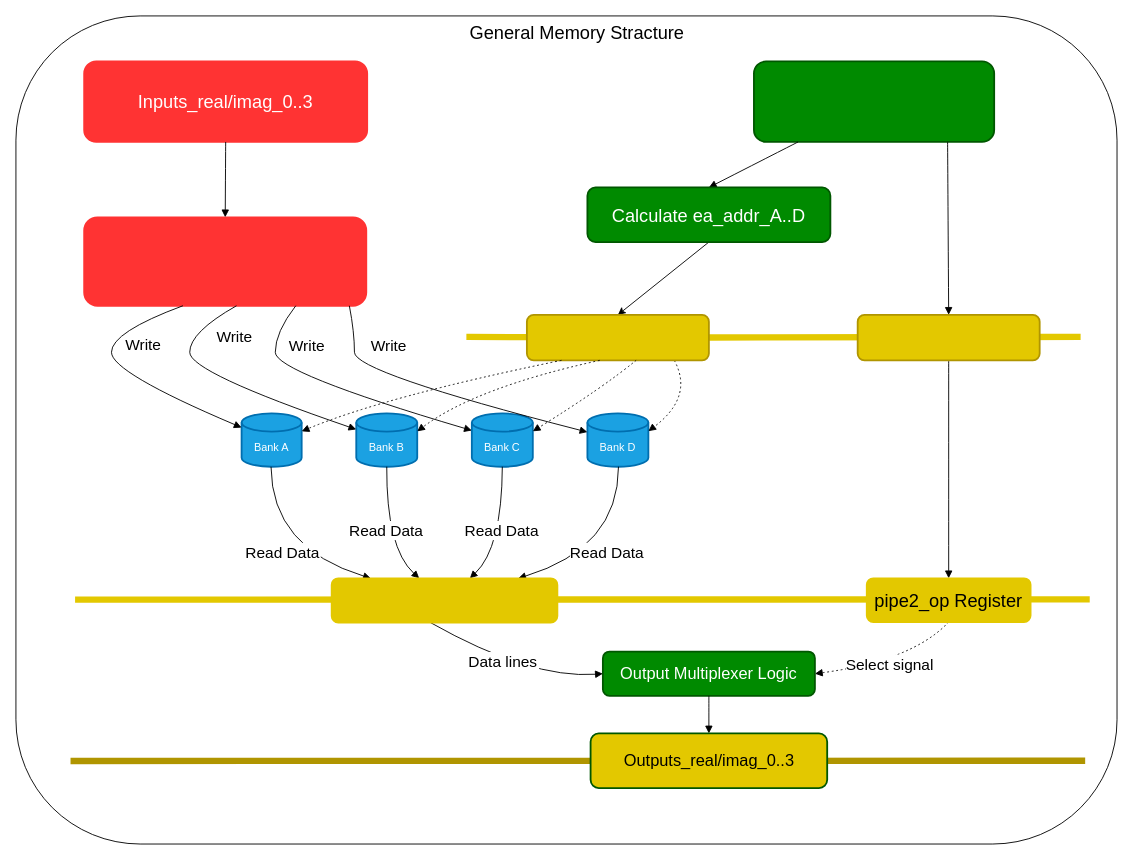
This 1133x860 diagram has some shape labels left out. The shapes that lost their labels are listed below. From the top down, each one's centre as x and y in pixels, then its label:
At point (874, 101): "butterfly_op_counter Controls the read address".
At point (225, 261): "Write Multiplexer Logic Controlled by stride_segment".
At point (617, 337): "Read Addresses".
At point (948, 337): "pipe1_op Register".
At point (444, 600): "pipe_rdata_A..D Registers".
